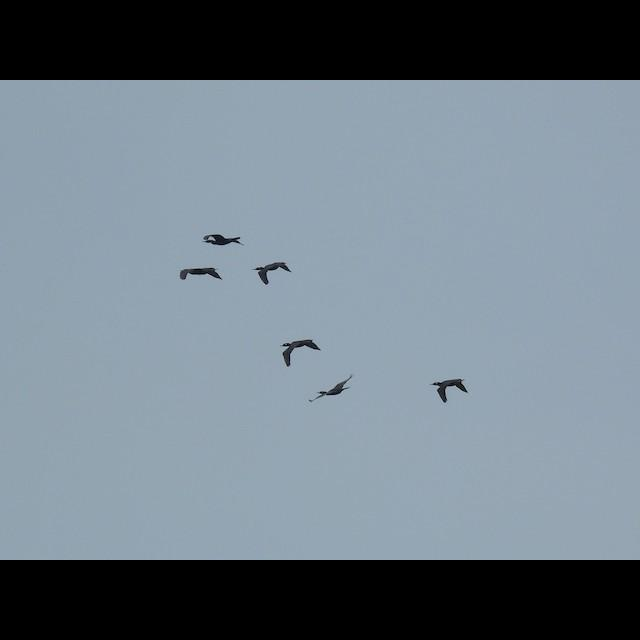cormorant: (304, 371, 358, 405), (279, 334, 319, 370), (252, 258, 294, 288), (174, 263, 226, 287), (430, 377, 470, 407), (199, 230, 245, 253)
